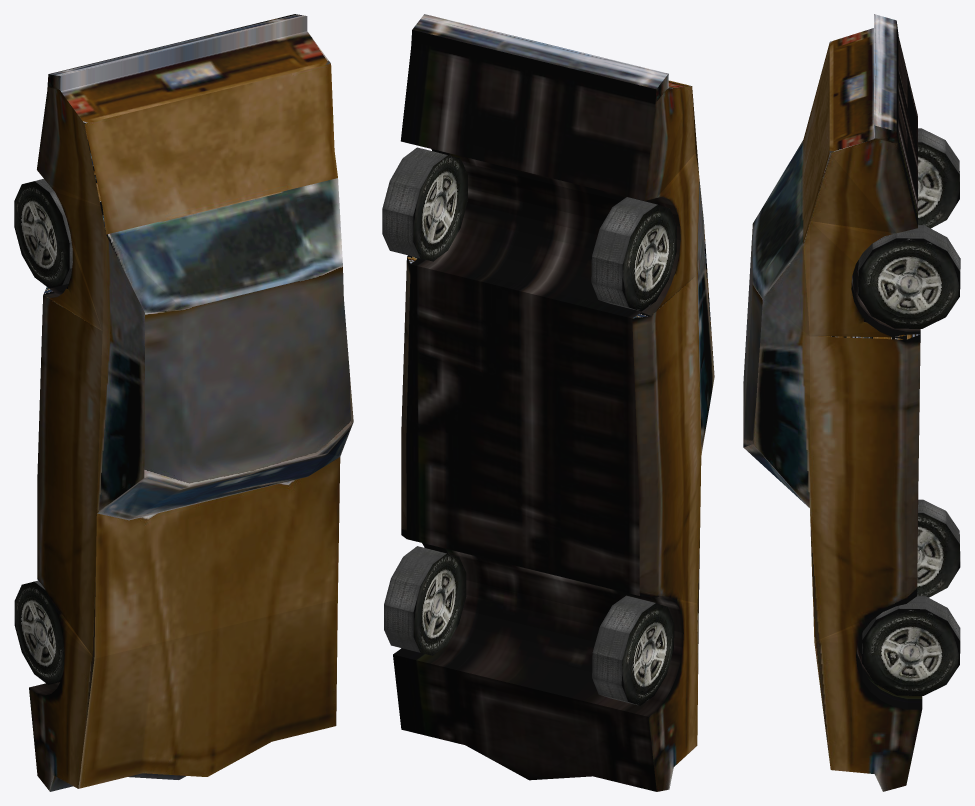
The model's file is carpack_hatch_wtf.obj.
3 renders of one model, left to right at view 1: azimuth 30°, elevation 25°; view 2: azimuth 150°, elevation 25°; view 3: azimuth 270°, elevation 25°, orthographic. The views are drawn at different scales.
Parts seen in each view (by area): view 1: group2; view 2: group2; view 3: group2.
Part boxes in pixels (x1,y1,x2,y2): group2: [14, 14, 353, 791]; group2: [382, 14, 714, 791]; group2: [743, 14, 960, 791].
Bounding box in the file's own units: 242 × 660 × 190.
